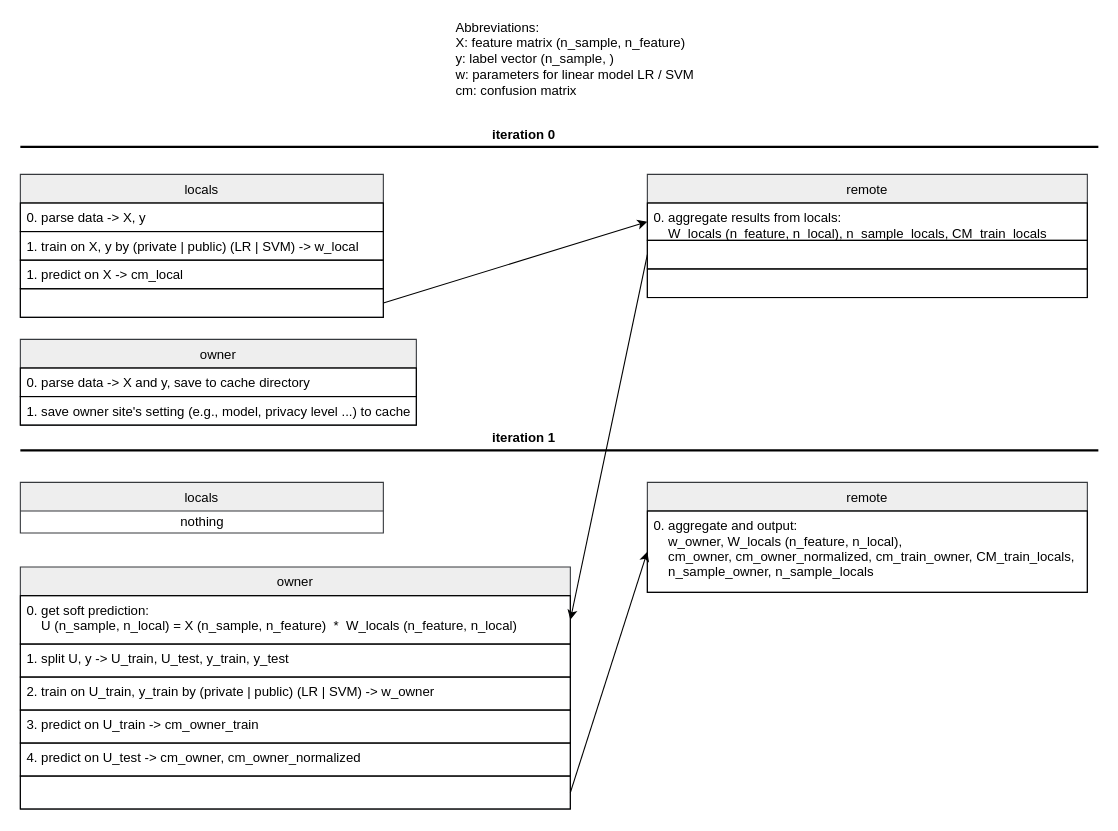
Some shapes in this 1118 by 831 pixel diagram are drawn without their labels. Here are the shapes that lost their labels. From the top down, the centre of each, then its label:
the point at 866,254: 1. output W_locals
the point at 201,302: 2. output w_local, cm_local, n_sample_local
the point at 866,283: 2. save W_locals, CM_train_locals, n_sample_locals to cache_directory
the point at 294,792: 5. output w_owner, cm_owner, cm_owner_normalized, cm_train_owner, n_sample_owner
